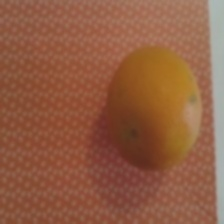orange: (7, 31, 193, 205)
